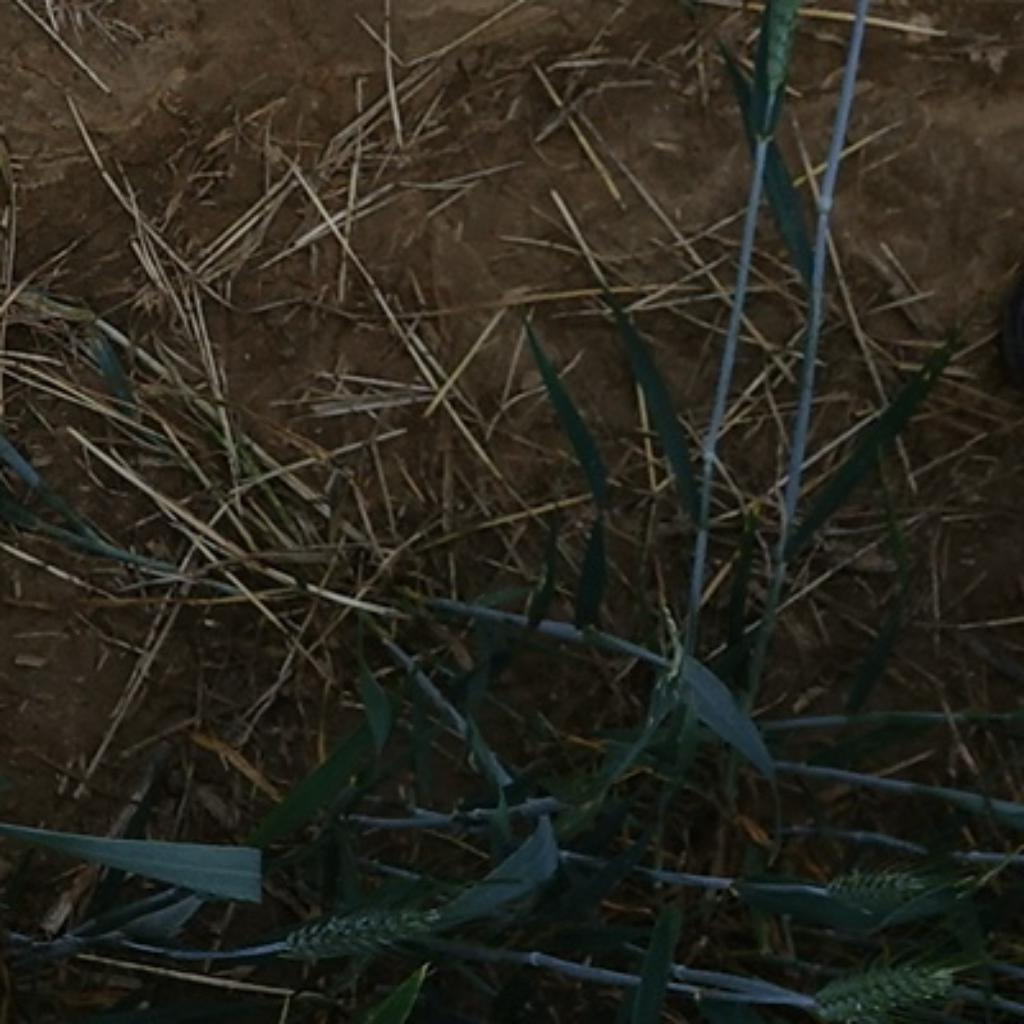0-0: (275, 899, 455, 966), (805, 962, 972, 1024), (742, 0, 815, 135), (810, 859, 956, 918)
